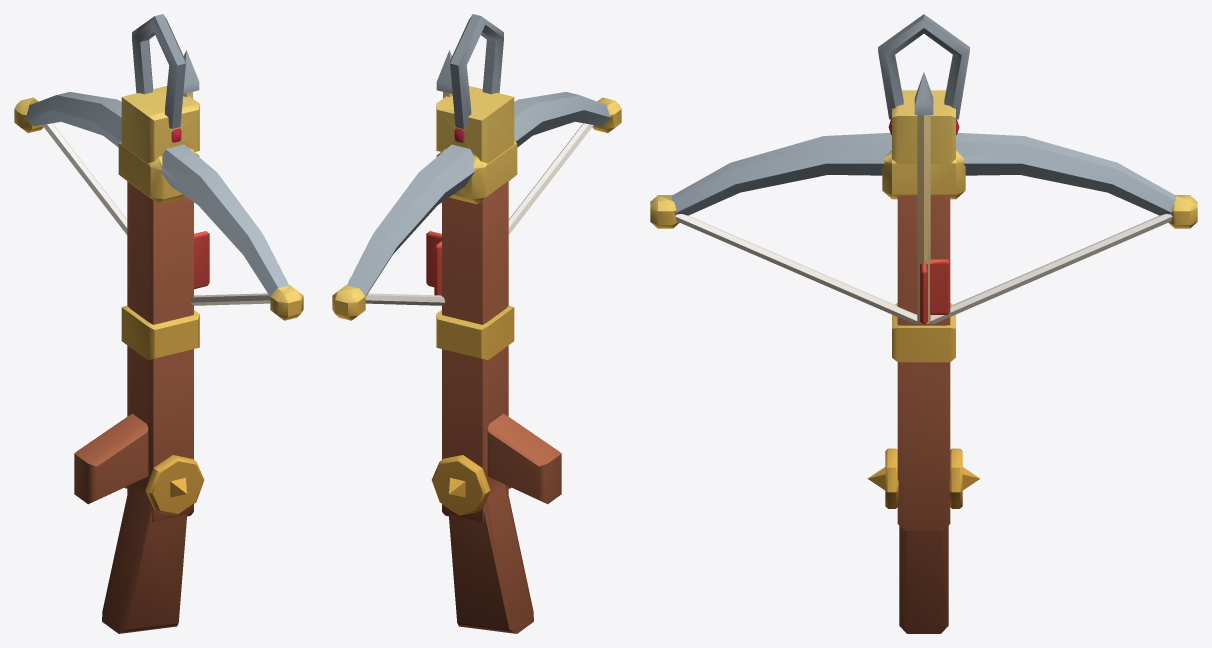
Rendered from crossbow_gilded.glb.
The picture shows the model from 3 angles, left to right: view 1: azimuth 30°, elevation 25°; view 2: azimuth 150°, elevation 25°; view 3: azimuth 270°, elevation 25°; orthographic projection.
Parts seen in each view (by area): view 1: Item; view 2: Item; view 3: Item.
Part boxes in pixels (left/top/right/bottom): Item: left=14, top=14, right=303, bottom=633; Item: left=332, top=14, right=621, bottom=633; Item: left=650, top=14, right=1197, bottom=633.
Bounding box in the file's own units: 0.395 × 1.79 × 1.45.
Materials: 3 (3 with a texture image).
